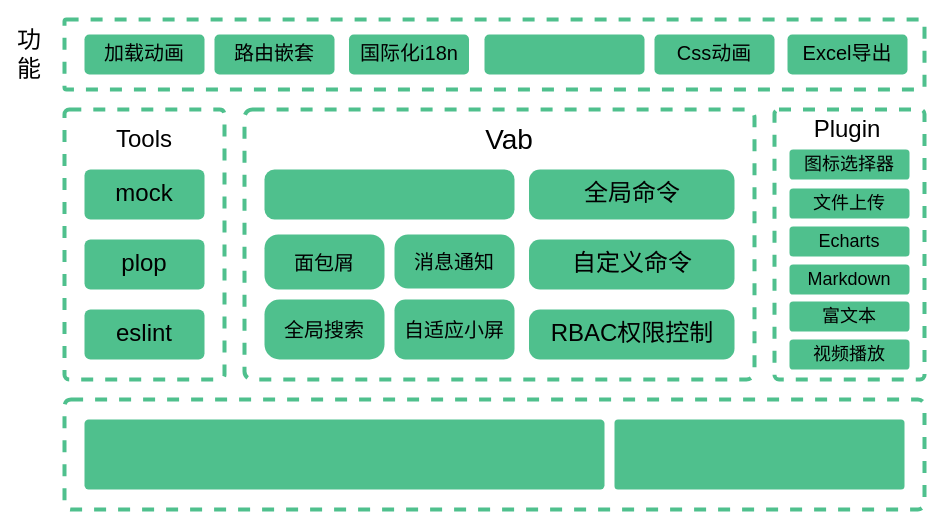
This 943x528 diagram has some shape labels left out. The centre of each missing label's shape, as x and y in pixels:
"5种布局 / 多彩主题" goes at pixel 389 194.
"elementUI" goes at pixel 759 454.
"Vue" goes at pixel 344 454.
"小清新/多彩图标" goes at pixel 564 54.
